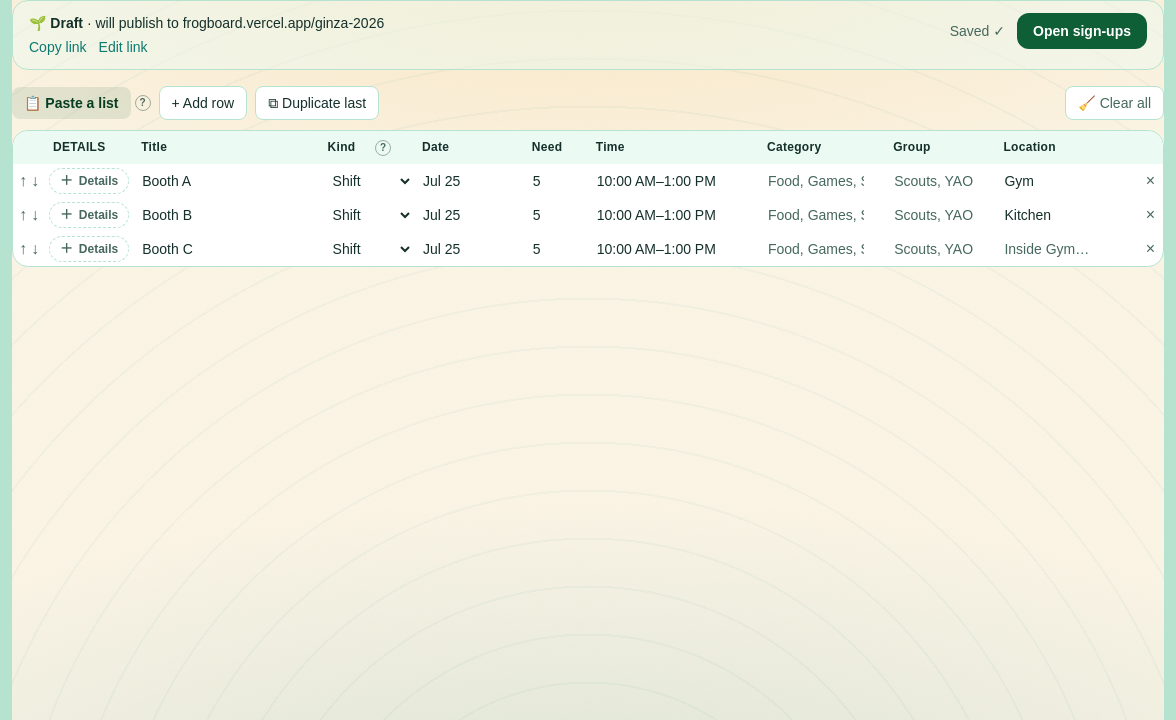
Test: fill-down fills only the empty cells below — it never overwrites
Click the field named "Location, row 1". click: {"x": 1058, "y": 181}
box: [995,164,1122,198]
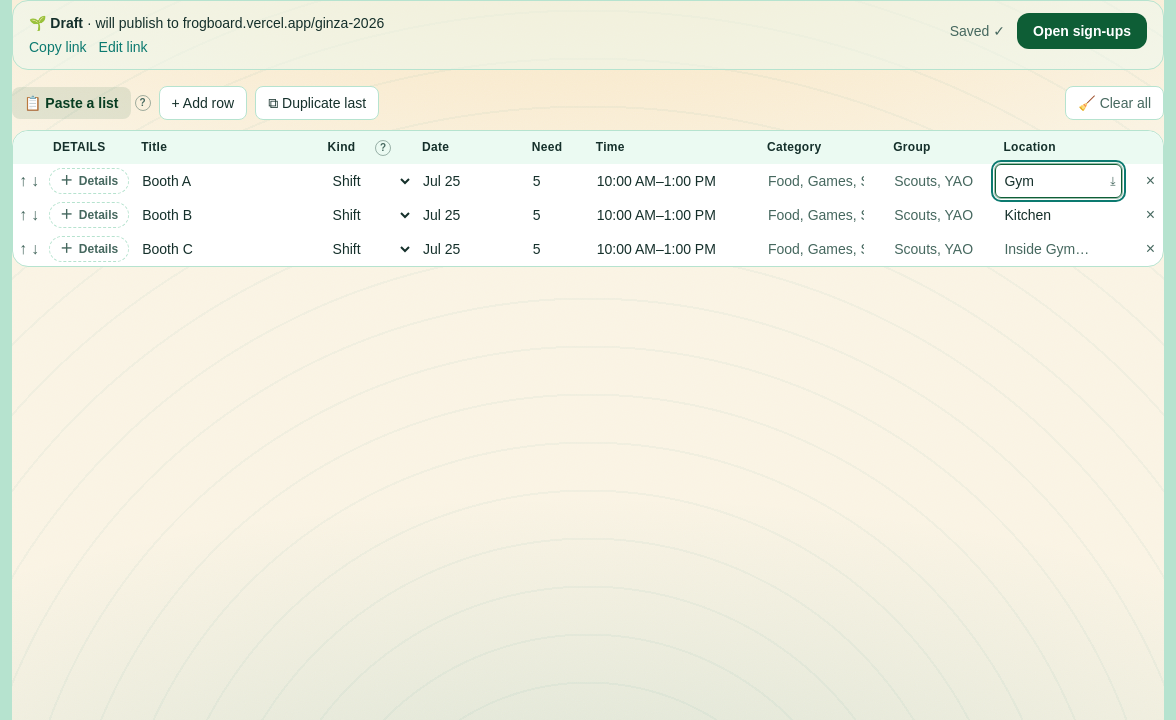
Click the button "⤓". click: {"x": 1113, "y": 181}
box: [1106,175,1120,187]
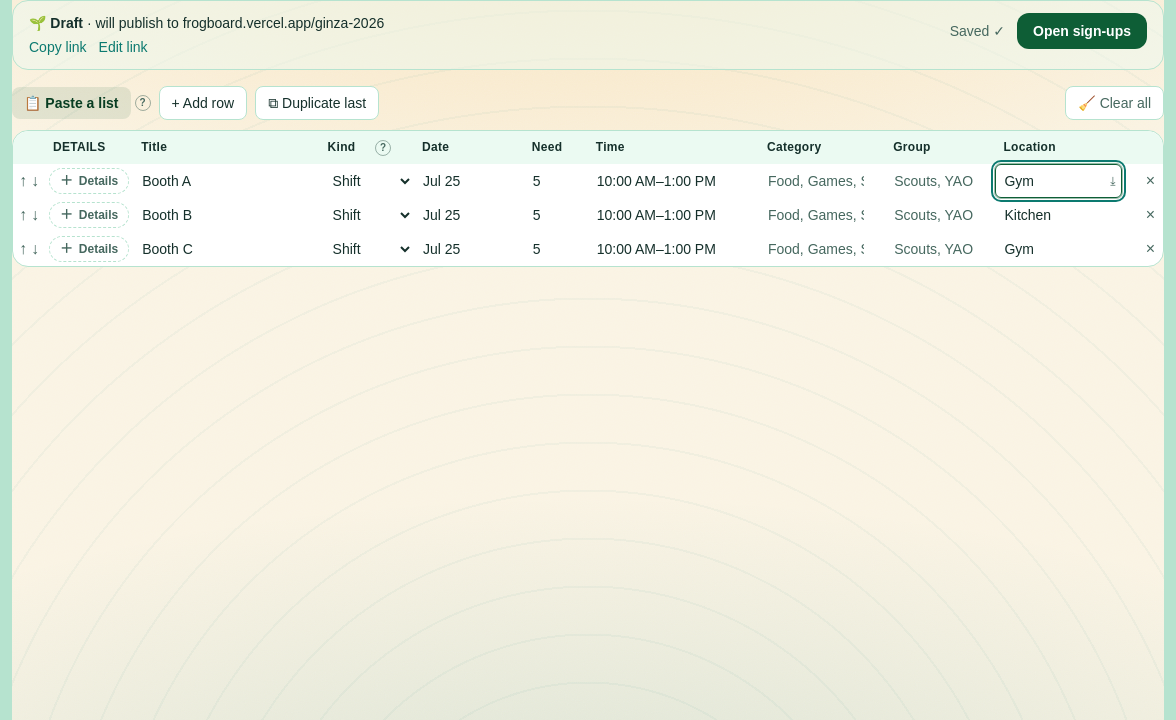
Expected: the field named "Location, row 1" holds "Gym", [995,164,1122,198]
Expected: the field named "Location, row 3" holds "Gym", [995,232,1122,266]
